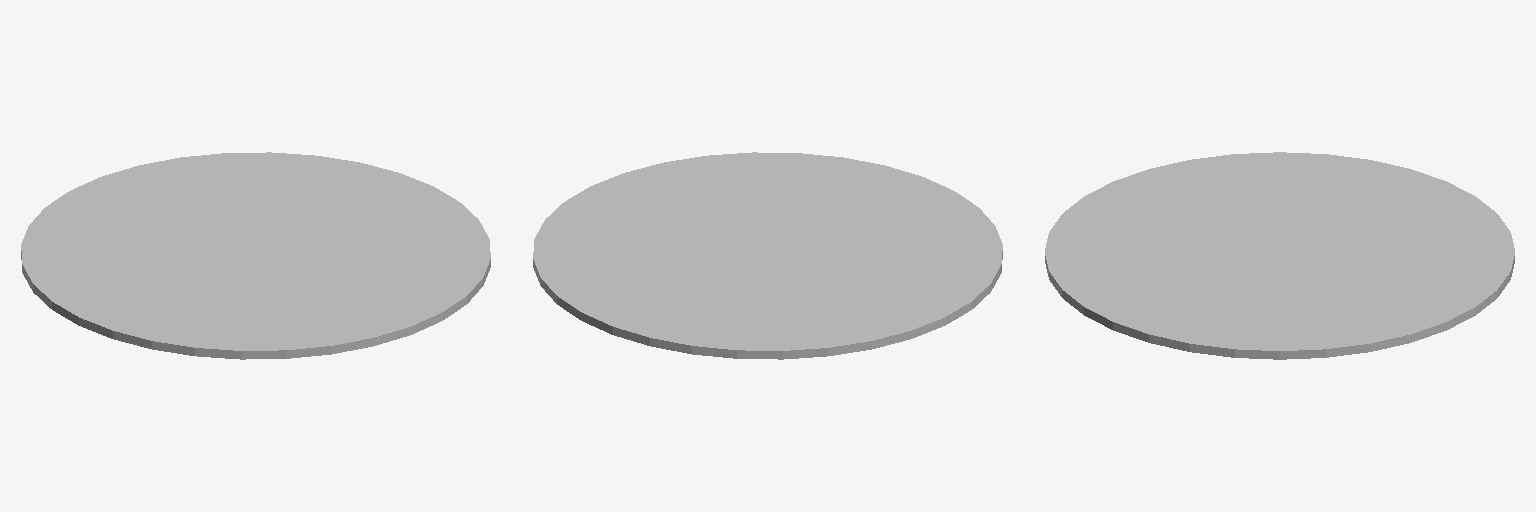
The model's file is pickup-shadow.obj.
The picture shows the model from 3 angles: view 1: azimuth 30°, elevation 25°; view 2: azimuth 150°, elevation 25°; view 3: azimuth 270°, elevation 25°; orthographic projection.
Parts seen in each view (by area): view 1: Cylinder; view 2: Cylinder; view 3: Cylinder.
Part boxes in pixels (bbox=[...]): Cylinder: bbox=[21, 152, 490, 359]; Cylinder: bbox=[533, 152, 1002, 359]; Cylinder: bbox=[1045, 152, 1514, 359].
Bounding box in the file's own units: 0.3262 × 0.0065 × 0.3262.